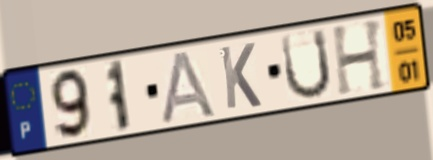1: (103, 56, 134, 136)
9: (46, 66, 94, 142)
A: (159, 47, 219, 125)
H: (329, 16, 390, 99)
K: (217, 40, 264, 112)
U: (279, 26, 334, 103)
